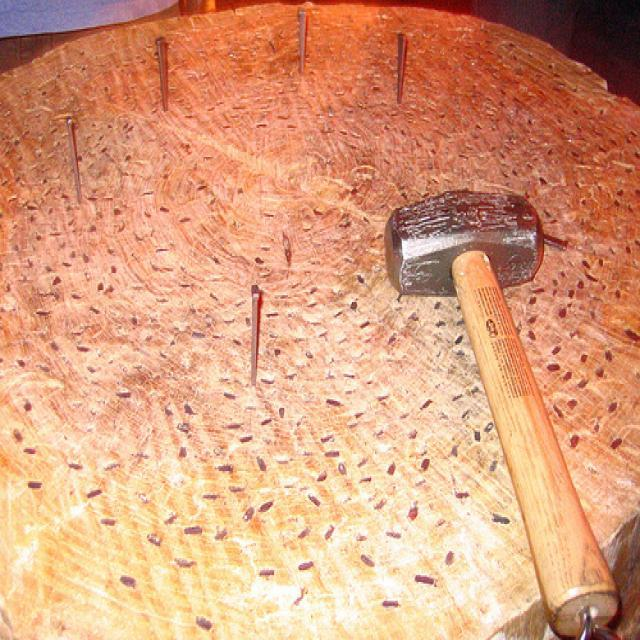hammer: (370, 176, 630, 638)
